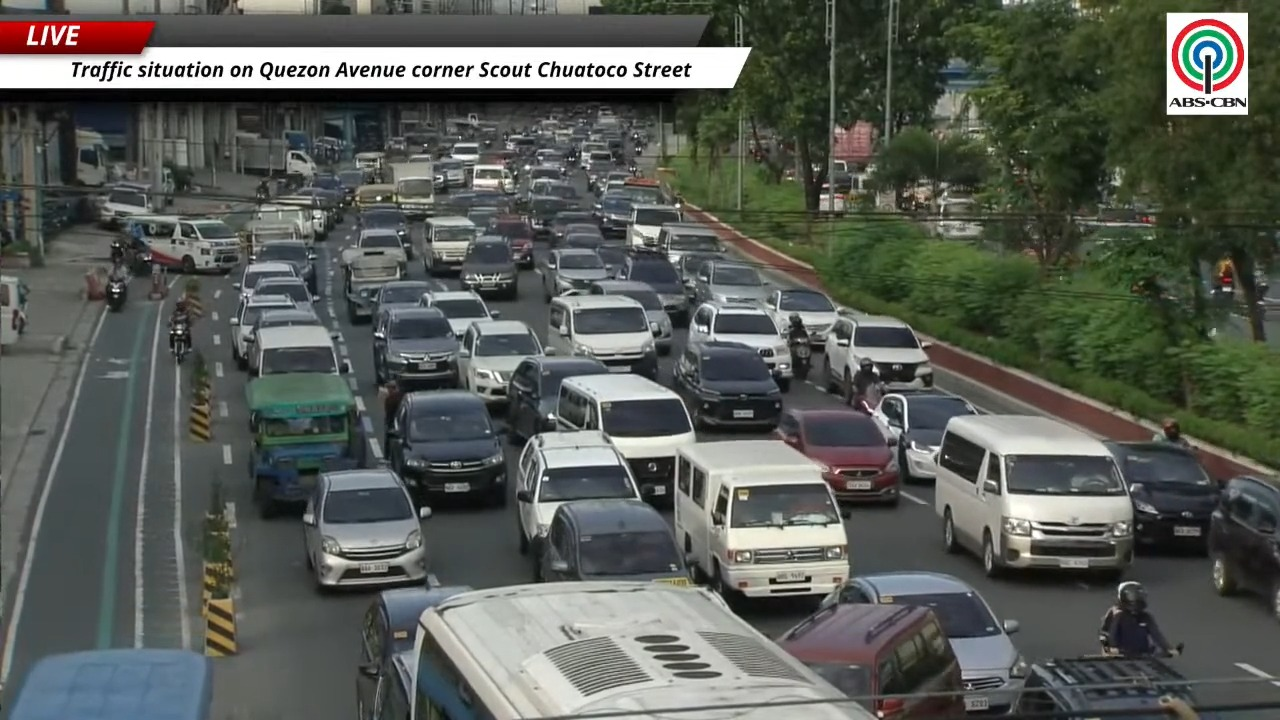bus: (412, 582, 875, 719), (6, 649, 212, 719)
car: (821, 571, 1027, 713), (777, 604, 965, 719), (514, 430, 639, 559), (356, 586, 472, 719), (302, 468, 430, 587), (386, 390, 506, 505), (538, 499, 690, 585), (775, 409, 900, 504), (1106, 442, 1220, 546), (1011, 656, 1198, 718), (1208, 476, 1279, 618), (872, 388, 978, 481), (546, 291, 658, 379), (820, 314, 933, 399), (673, 342, 782, 429), (687, 302, 792, 391), (507, 356, 607, 443), (459, 320, 545, 403), (373, 307, 458, 386), (588, 280, 672, 354), (615, 249, 689, 326), (229, 294, 295, 369), (242, 307, 323, 368), (765, 288, 837, 345), (459, 235, 518, 299), (253, 240, 320, 296), (538, 248, 608, 301), (419, 291, 499, 337), (694, 259, 770, 305), (357, 206, 413, 259), (655, 223, 724, 263), (340, 228, 407, 269), (372, 280, 442, 316), (487, 215, 533, 268), (626, 204, 682, 247), (233, 262, 299, 298), (673, 252, 722, 300), (528, 195, 572, 239), (254, 276, 315, 306), (594, 196, 632, 237), (549, 205, 592, 241), (595, 240, 625, 276), (537, 182, 580, 203), (465, 205, 505, 227), (557, 233, 605, 250), (526, 164, 563, 182), (563, 223, 602, 239)
motorcycle: (1101, 643, 1183, 658), (848, 383, 882, 414), (789, 337, 811, 381), (170, 322, 190, 363), (106, 277, 126, 311), (110, 239, 126, 265), (629, 163, 639, 176), (634, 144, 644, 155)
truck: (343, 253, 402, 324), (236, 134, 317, 181), (384, 162, 437, 219), (75, 128, 109, 186)
